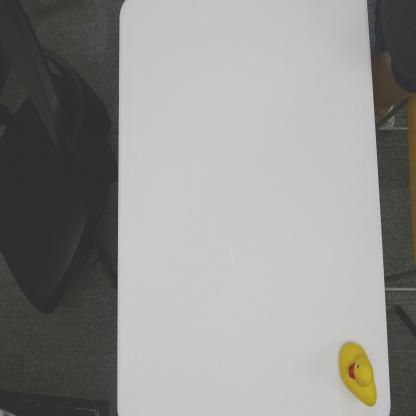Duck: (336, 338, 378, 408)
